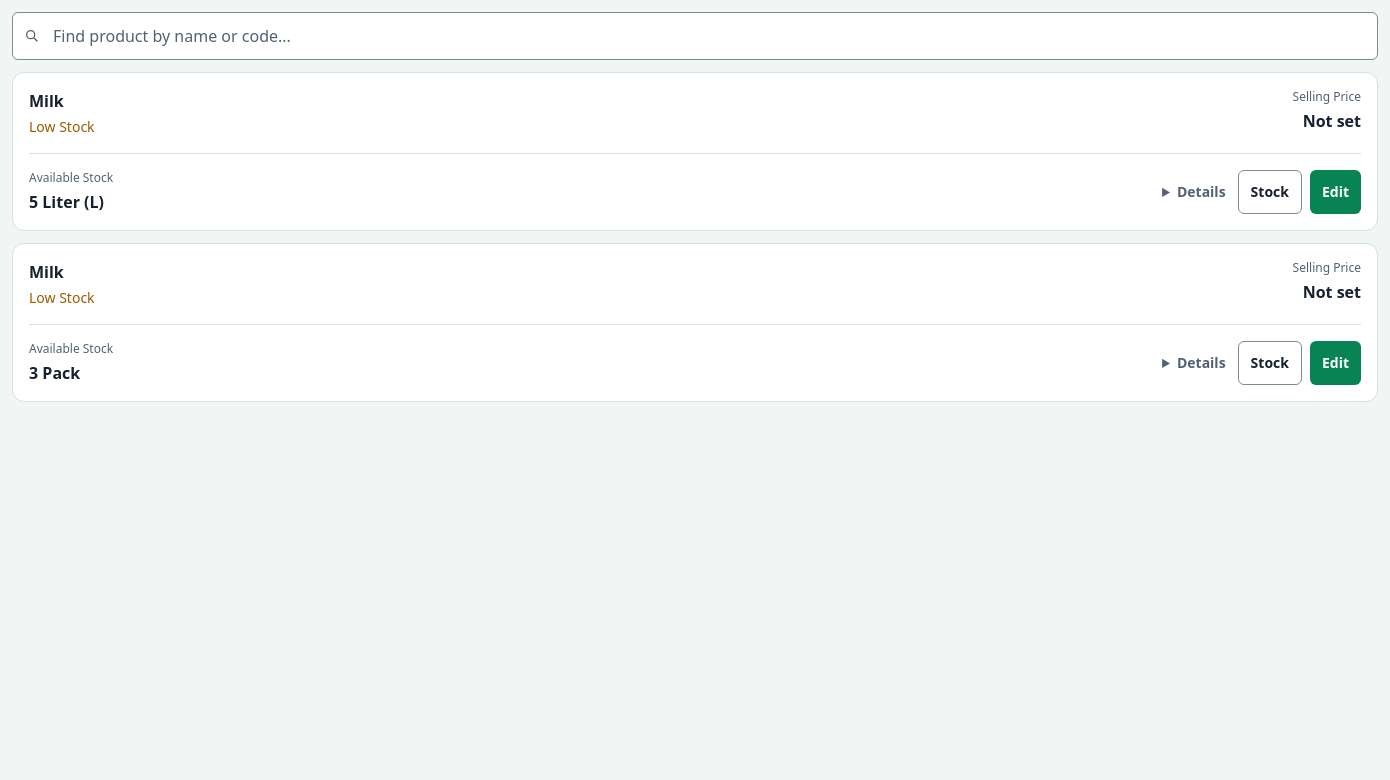
Test: optional product identity previews › searches name or code and displays each stable-ID variant with category and unit
Later steps or results of the test are not shown.
Click the heading "Details" in the row of "Liter (L)". click: [1201, 192]
box: x1=1177 y1=182 x2=1226 y2=201
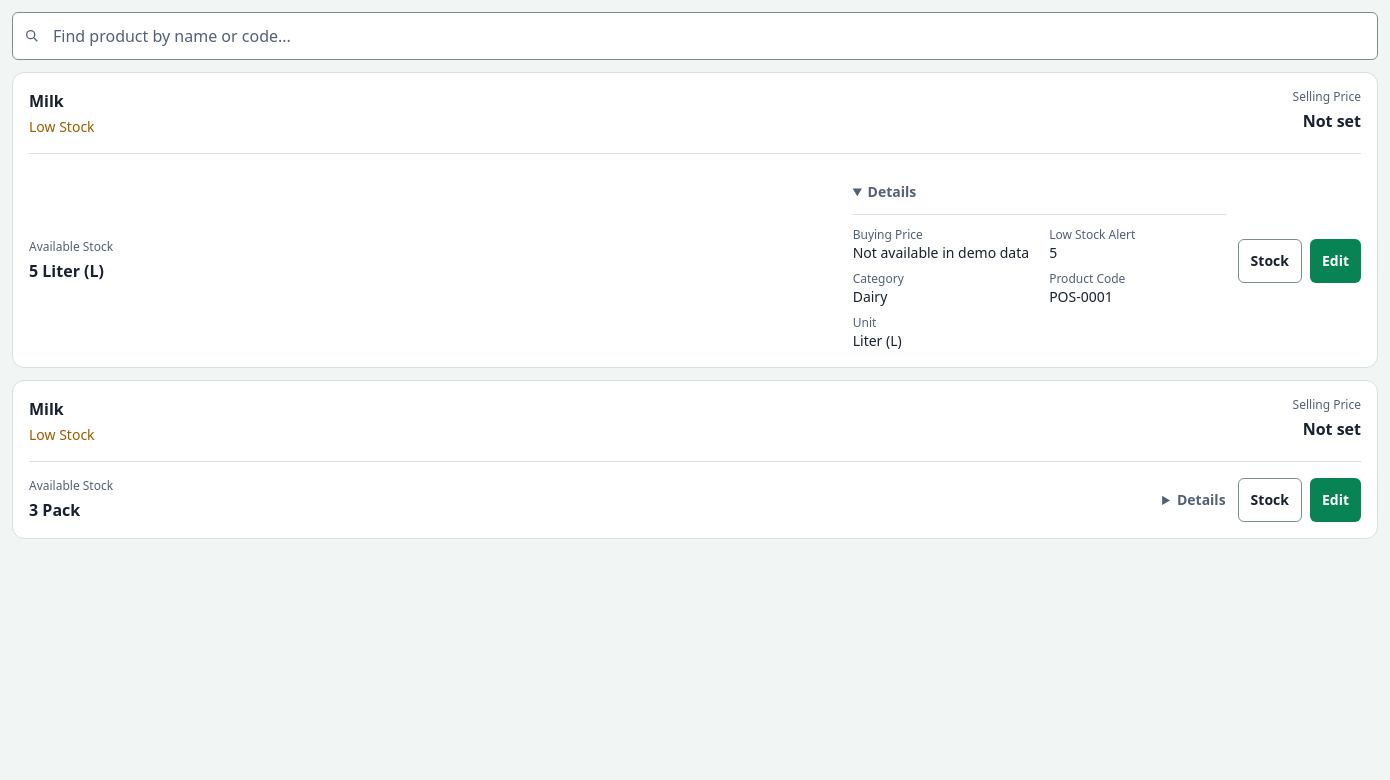
Click the heading "Details" in the row of "Pack". click: [1201, 500]
box: x1=1177 y1=490 x2=1226 y2=509
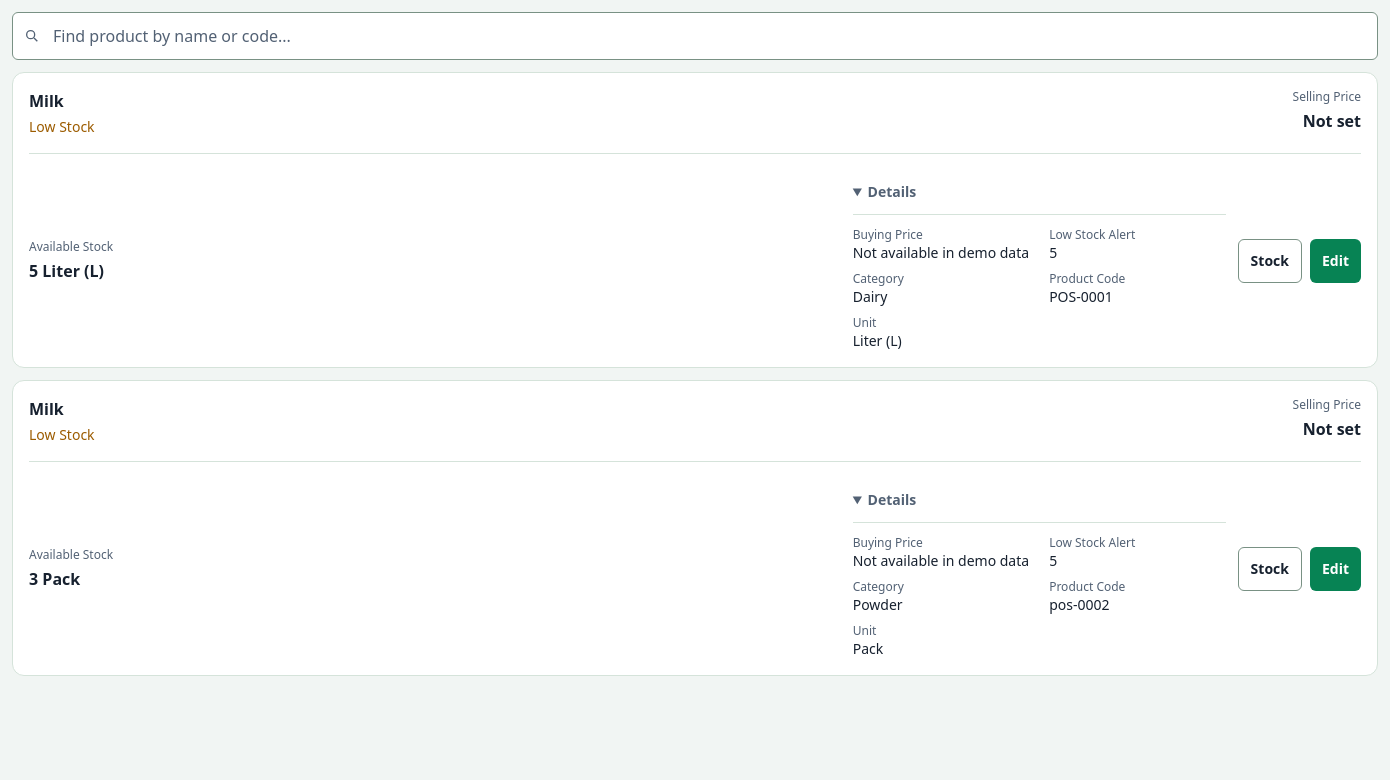
expect the text "Dairy" is shown: met, box x1=853 y1=287 x2=887 y2=306
expect the text "Powder" is shown: met, box x1=853 y1=595 x2=903 y2=614
